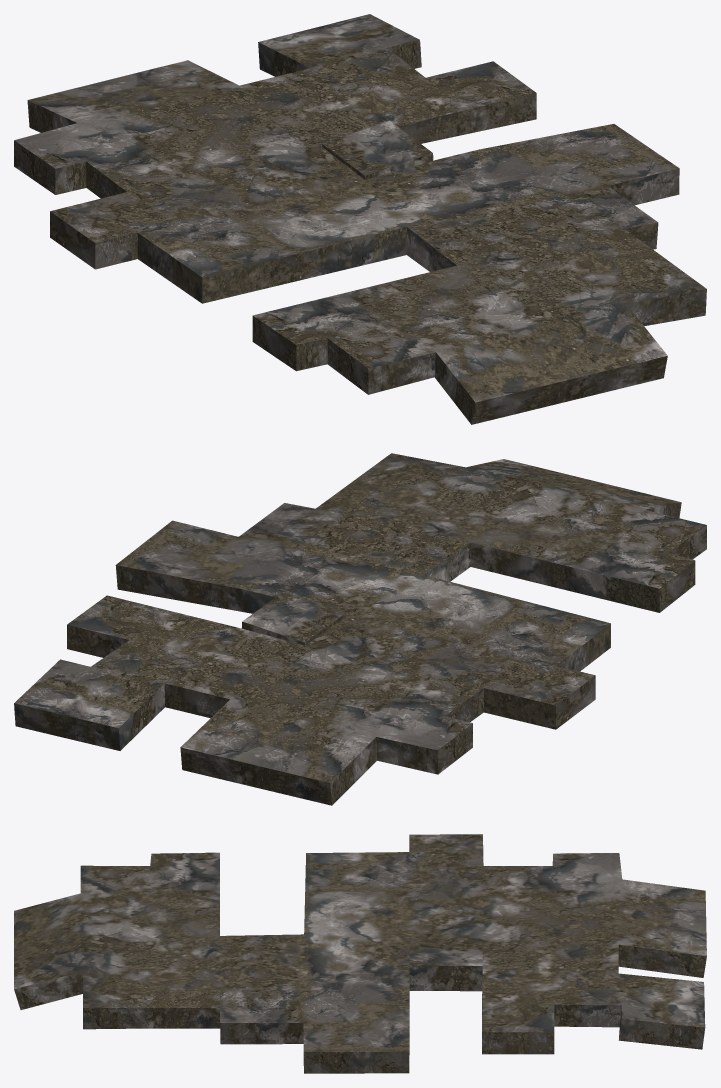
Rendered from BigTiles2.fbx.
3 views of the same model, one above another, from view 1: azimuth 30°, elevation 25°; view 2: azimuth 150°, elevation 25°; view 3: azimuth 270°, elevation 25° (orthographic). The views are drawn at different scales.
Parts seen in each view (by area): view 1: BigTiles2; view 2: BigTiles2; view 3: BigTiles2.
Part boxes in pixels (x1,y1,x2,y2): BigTiles2: [14, 14, 706, 424]; BigTiles2: [14, 453, 706, 805]; BigTiles2: [14, 834, 706, 1073].
Bounding box in the file's own units: 416 × 572 × 41.23.
